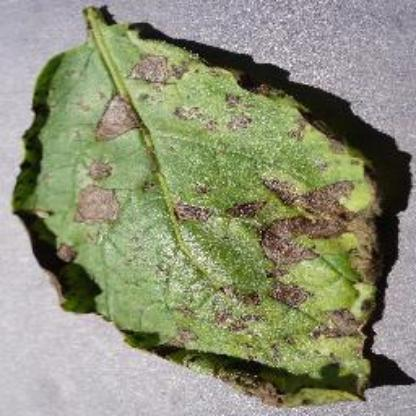Early-Blight: (13, 5, 398, 407)
